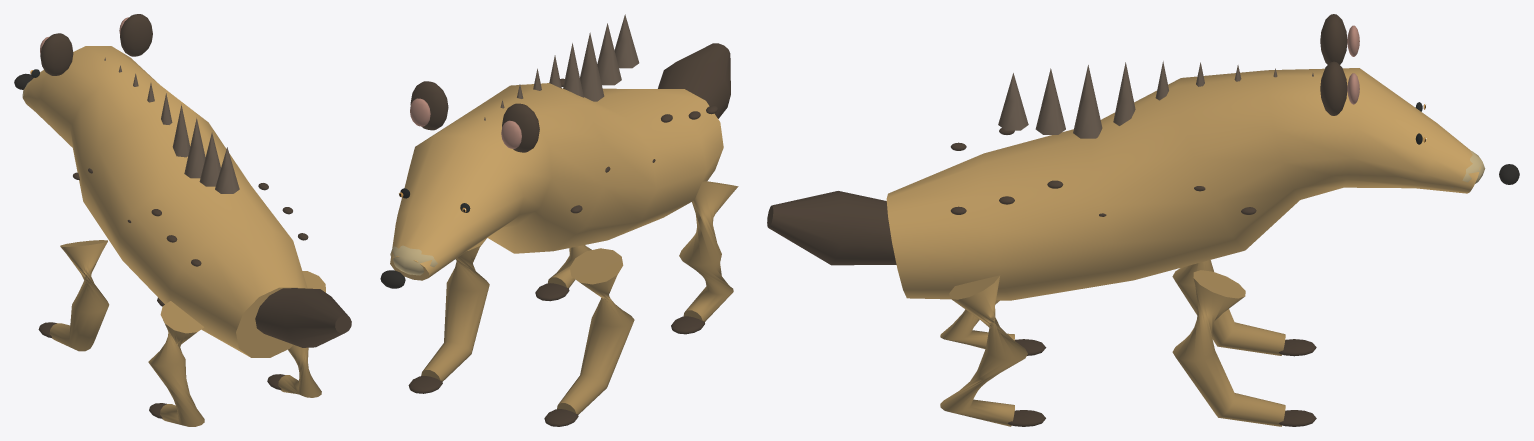
The model's file is hyena_hero.glb.
The picture shows the model from 3 angles, left to right: view 1: azimuth 30°, elevation 25°; view 2: azimuth 150°, elevation 25°; view 3: azimuth 270°, elevation 25°; orthographic projection. The views are drawn at different scales.
Parts seen in each view (by area): view 1: HyenaOrganicBody, Tail, Leg_LH, Leg_LF, Leg_RH, RoundEar, RoundEar2, BackManeDetail_02, BackManeDetail_01, BackManeDetail_00, BackManeDetail_03; view 2: HyenaOrganicBody, Leg_LF, Leg_RF, Leg_LH, Tail, RoundEar2, RoundEar, BackManeDetail_02, BackManeDetail_01, Muzzle, BackManeDetail_00, Leg_RH (+8 smaller); view 3: HyenaOrganicBody, Tail, Leg_RF, Leg_RH, Leg_LF, BackManeDetail_02, RoundEar2, BackManeDetail_01, RoundEar, Leg_LH, BackManeDetail_00, BackManeDetail_03.
Boxes of the visible parts, <box> form: HyenaOrganicBody: <box>22,46,307,357</box>; Tail: <box>255,288,351,347</box>; Leg_LH: <box>148,301,204,426</box>; Leg_LF: <box>49,240,109,351</box>; Leg_RH: <box>278,271,325,397</box>; RoundEar: <box>40,33,73,75</box>; RoundEar2: <box>120,14,152,56</box>; BackManeDetail_02: <box>184,118,205,178</box>; BackManeDetail_01: <box>199,132,220,186</box>; BackManeDetail_00: <box>215,147,239,193</box>; BackManeDetail_03: <box>172,104,190,157</box>; HyenaOrganicBody: <box>390,83,723,280</box>; Leg_LF: <box>557,248,634,414</box>; Leg_RF: <box>421,238,489,381</box>; Leg_LH: <box>679,181,738,321</box>; Tail: <box>658,43,730,118</box>; RoundEar2: <box>410,81,448,130</box>; RoundEar: <box>502,103,539,152</box>; BackManeDetail_02: <box>580,32,604,101</box>; BackManeDetail_01: <box>597,23,621,85</box>; Muzzle: <box>390,245,443,275</box>; BackManeDetail_00: <box>614,14,639,68</box>; Leg_RH: <box>548,245,591,287</box>; HyenaOrganicBody: <box>886,68,1480,300</box>; Tail: <box>767,191,896,265</box>; Leg_RF: <box>1172,270,1285,426</box>; Leg_RH: <box>940,275,1027,426</box>; Leg_LF: <box>1172,260,1285,355</box>; BackManeDetail_02: <box>1073,65,1102,138</box>; RoundEar2: <box>1320,61,1347,115</box>; BackManeDetail_01: <box>1035,68,1065,134</box>; RoundEar: <box>1320,14,1347,64</box>; Leg_LH: <box>940,300,1014,349</box>; BackManeDetail_00: <box>998,73,1028,130</box>; BackManeDetail_03: <box>1113,62,1135,125</box>.
Size of the model in its own units: 1.44 by 2.45 by 4.77.
